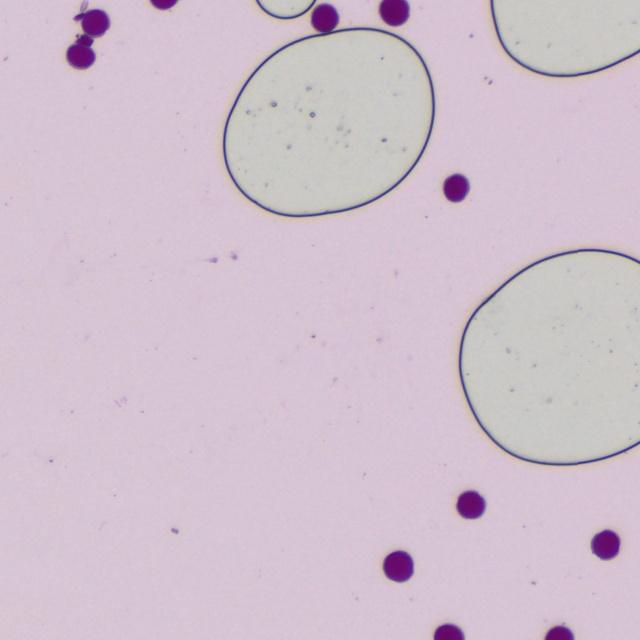viable: (384, 551, 413, 581), (592, 530, 619, 559), (82, 9, 109, 37), (457, 491, 485, 518), (379, 0, 409, 25), (444, 174, 469, 201), (312, 4, 337, 31), (67, 44, 94, 68), (434, 624, 463, 639), (545, 626, 573, 639), (151, 0, 177, 9)
